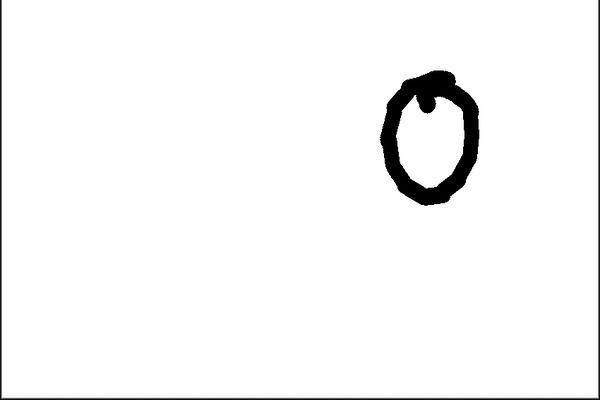O: (359, 61, 493, 216)
